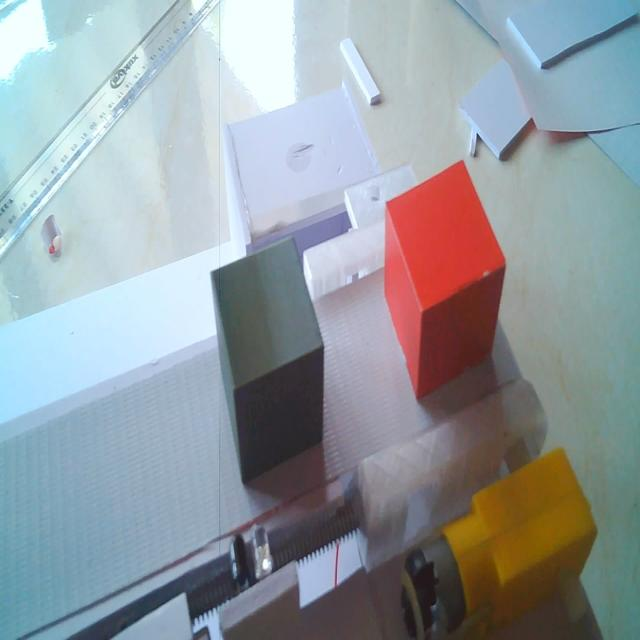green: (203, 232, 335, 484)
red: (384, 155, 509, 403)
